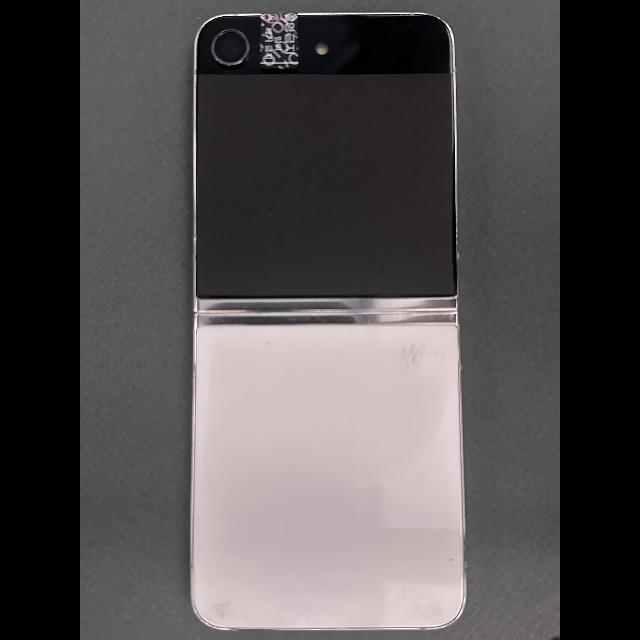lens: (212, 29, 249, 65)
phone: (191, 11, 466, 630)
sticker: (260, 13, 299, 69)
